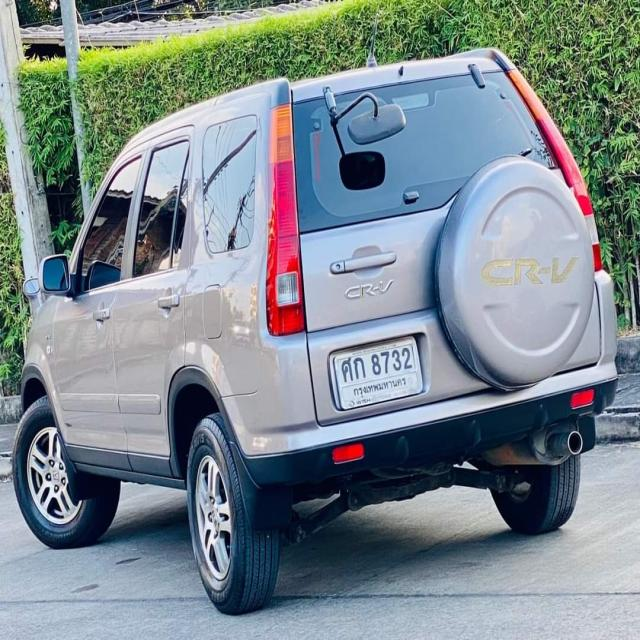license_plate: (331, 338, 422, 414)
